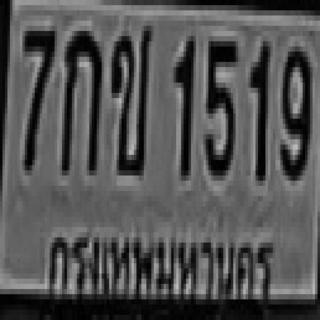A01: (60, 26, 99, 170)
A10: (109, 21, 151, 170)
N01: (248, 39, 268, 178), (172, 34, 192, 173)
N05: (203, 36, 236, 175)
N07: (22, 26, 55, 165)
N09: (278, 41, 310, 176)
P04: (45, 220, 275, 307)
